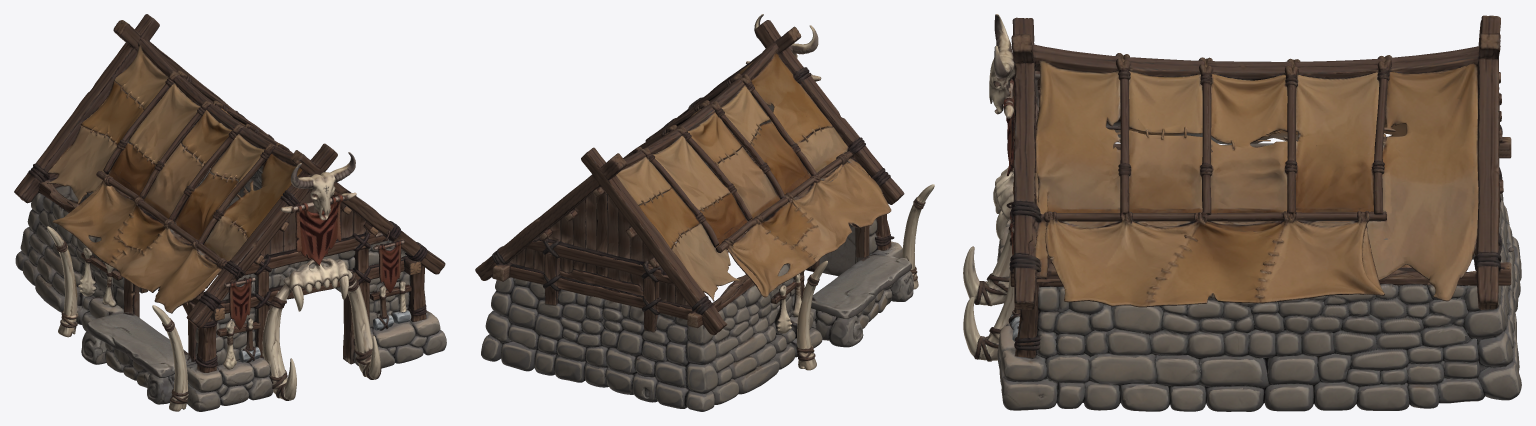
Rendered from TrollBoneCarver_300k.glb.
3 views of the same model, side by side, from view 1: azimuth 30°, elevation 25°; view 2: azimuth 150°, elevation 25°; view 3: azimuth 270°, elevation 25° (orthographic). The views are drawn at different scales.
Parts seen in each view (by area): view 1: Mesh_0; view 2: Mesh_0; view 3: Mesh_0.
Boxes of the visible parts, <box> form: Mesh_0: <box>14,14,446,411</box>; Mesh_0: <box>475,14,934,411</box>; Mesh_0: <box>963,14,1521,411</box>.
Size of the model in its own units: 1.51 by 1.16 by 1.9.
1 material, 1 textured.
